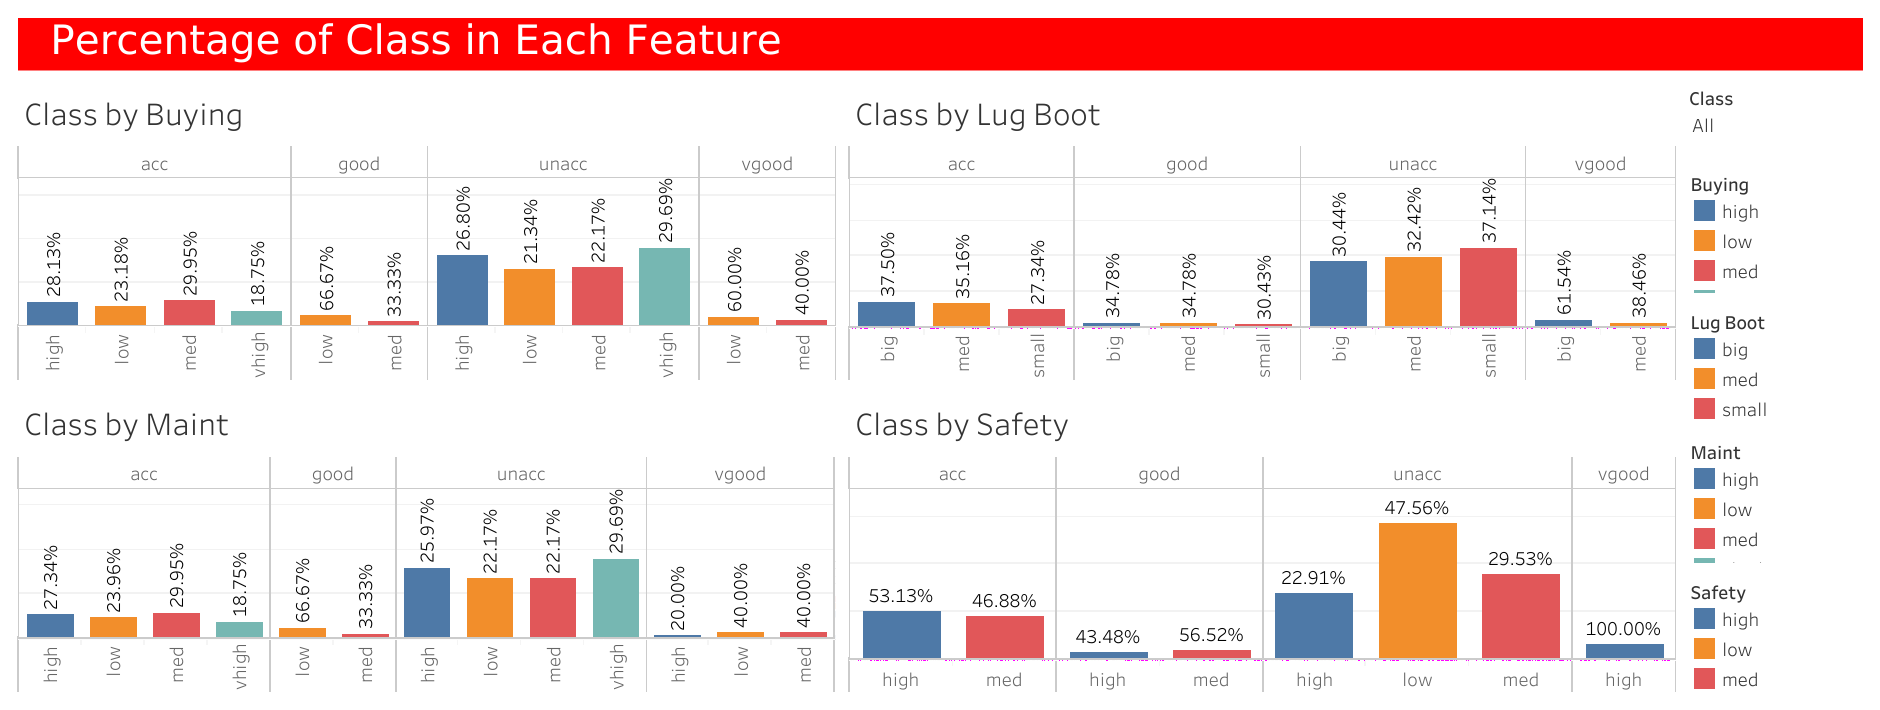

What the dashboard file says about the page in this screenshot:
{"tool":"tableau","page":{"name":"Dashboard 1","canvas":[1000,1000],"units":"permille","ordinal":0},"visuals":[{"type":"blank","box":[5,9.9,990,91.8]},{"type":"text","box":[24.9,18.6,837.3,74.4]},{"type":"worksheet","title":"Class by Buying","mark":"Automatic","rows":["Car Evaluation_01FB3EECCFB0409EADB8A51176C91452"],"cols":["class","buying"],"box":[5,101.7,442.6,444.1]},{"type":"worksheet","title":"Class by Lug Boot","mark":"Automatic","rows":["Car Evaluation_01FB3EECCFB0409EADB8A51176C91452"],"cols":["class","lug_boot"],"box":[447.6,101.7,448.1,444.1]},{"type":"filter","title":"Class by Buying","param":"[federated.0uu4utz04kwhd018oql2r0vy0orf].[none:class:nk]","box":[895.8,101.7,99.3,86.9]},{"type":"legend","title":"Class by Buying","param":"[federated.0uu4utz04kwhd018oql2r0vy0orf].[none:buying:nk]","box":[895.8,188.6,99.3,166.3]},{"type":"legend","title":"Class by Lug Boot","param":"[federated.0uu4utz04kwhd018oql2r0vy0orf].[none:lug_boot:nk]","box":[895.8,354.9,99.3,135.2]},{"type":"legend","title":"Class by Maint","param":"[federated.0uu4utz04kwhd018oql2r0vy0orf].[none:maint:nk]","box":[895.8,490.1,99.3,166.3]},{"type":"worksheet","title":"Class by Maint","mark":"Automatic","rows":["Car Evaluation_01FB3EECCFB0409EADB8A51176C91452"],"cols":["class","maint"],"box":[5,545.9,442.6,444.2]},{"type":"worksheet","title":"Class by Safety","mark":"Automatic","rows":["Car Evaluation_01FB3EECCFB0409EADB8A51176C91452"],"cols":["class","safety"],"box":[447.6,545.9,448.1,444.2]},{"type":"legend","title":"Class by Safety","param":"[federated.0uu4utz04kwhd018oql2r0vy0orf].[none:safety:nk]","box":[895.8,656.4,99.3,135.2]}]}

Visuals, with their boxes on the dashboard's canvas, which has no fixed pixel size, in thousandths of its width and height (x1, y1, x2, y2). These are canvas units, not pixel positions in the 1880x710 screenshot, which may show the page scaled, cropped or inside an application window:
blank: bbox(5, 10, 995, 102)
text: bbox(25, 19, 862, 93)
"Class by Buying" worksheet: bbox(5, 102, 448, 546)
"Class by Lug Boot" worksheet: bbox(448, 102, 896, 546)
"Class by Buying" filter: bbox(896, 102, 995, 189)
"Class by Buying" legend: bbox(896, 189, 995, 355)
"Class by Lug Boot" legend: bbox(896, 355, 995, 490)
"Class by Maint" legend: bbox(896, 490, 995, 656)
"Class by Maint" worksheet: bbox(5, 546, 448, 990)
"Class by Safety" worksheet: bbox(448, 546, 896, 990)
"Class by Safety" legend: bbox(896, 656, 995, 792)
